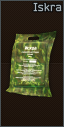Iskra ration pack: (0, 0, 64, 127)
